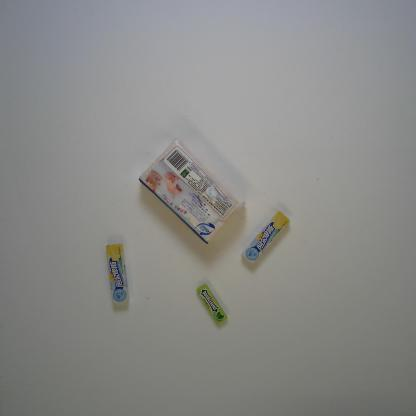Candy: (241, 211, 290, 265), (106, 243, 129, 306)
Gum: (196, 283, 228, 326)
Tissue: (138, 139, 243, 245)
